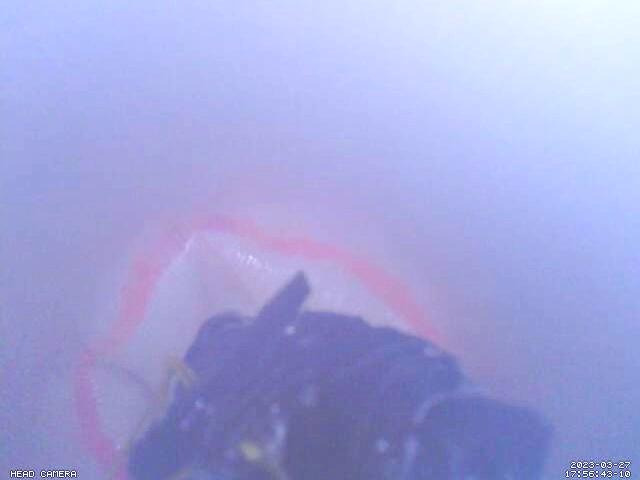head: (72, 209, 449, 480)
